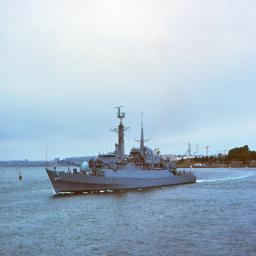Fragata: (45, 104, 199, 199)
